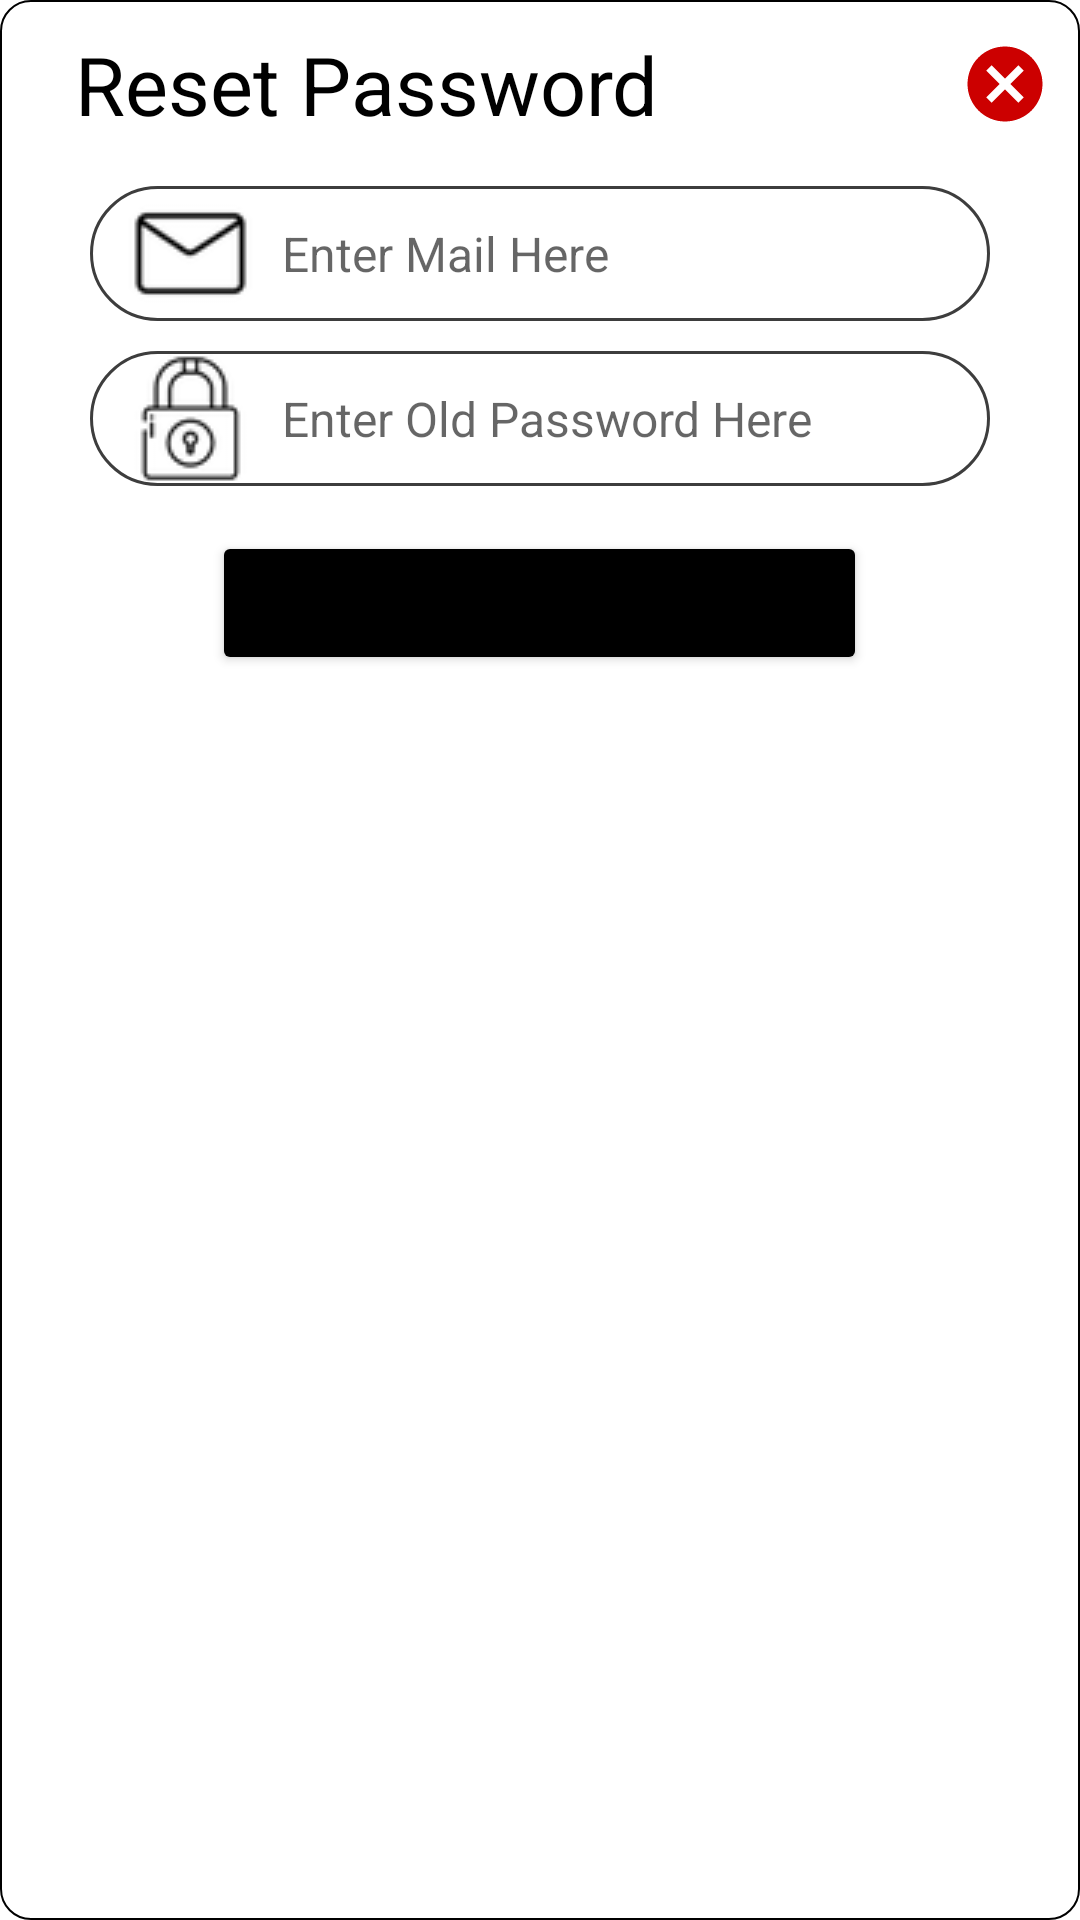

Point at icon controls on the screen. Image size 1080w x 1920h, points as (x=x, y=y).
cancel: (x=1005, y=84)
